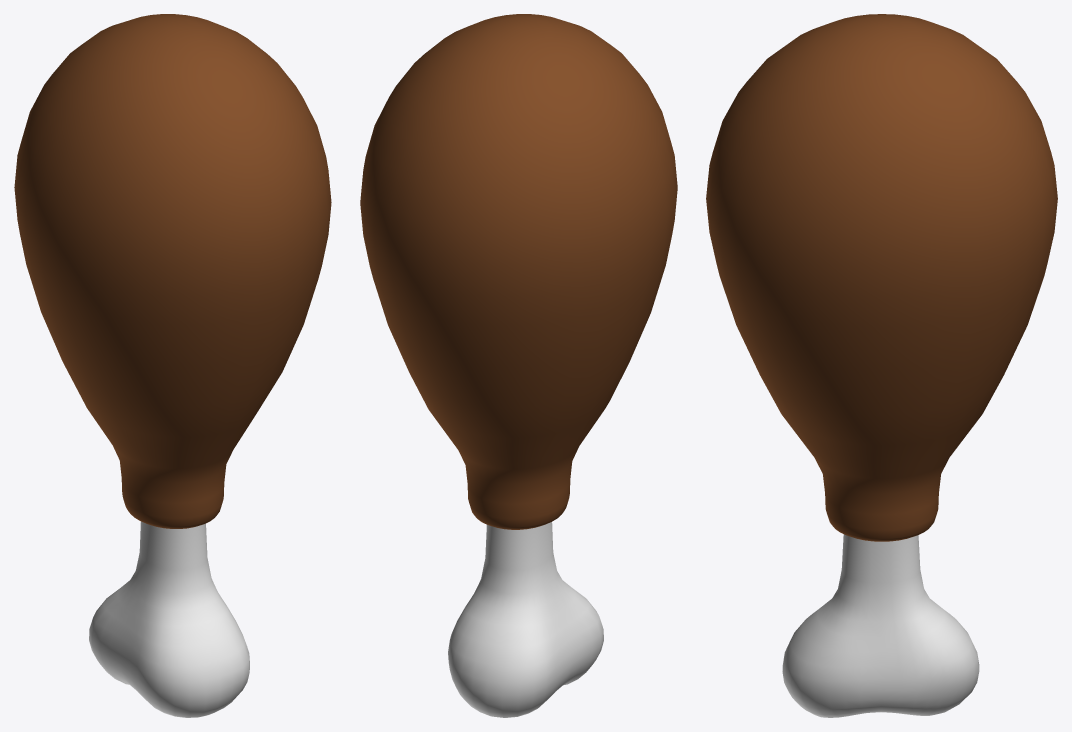
File: Comida_VR05.fbx
3 renders of one model, left to right at view 1: azimuth 30°, elevation 25°; view 2: azimuth 150°, elevation 25°; view 3: azimuth 270°, elevation 25°, orthographic. The views are drawn at different scales.
Parts seen in each view (by area): view 1: Muslito Pollo; view 2: Muslito Pollo; view 3: Muslito Pollo.
Boxes of the visible parts, x1,y1,x2,y2 form: Muslito Pollo: (14,14,331,717); Muslito Pollo: (360,14,677,717); Muslito Pollo: (706,14,1057,717).
Bounding box in the file's own units: 87.1 × 207 × 96.31.
